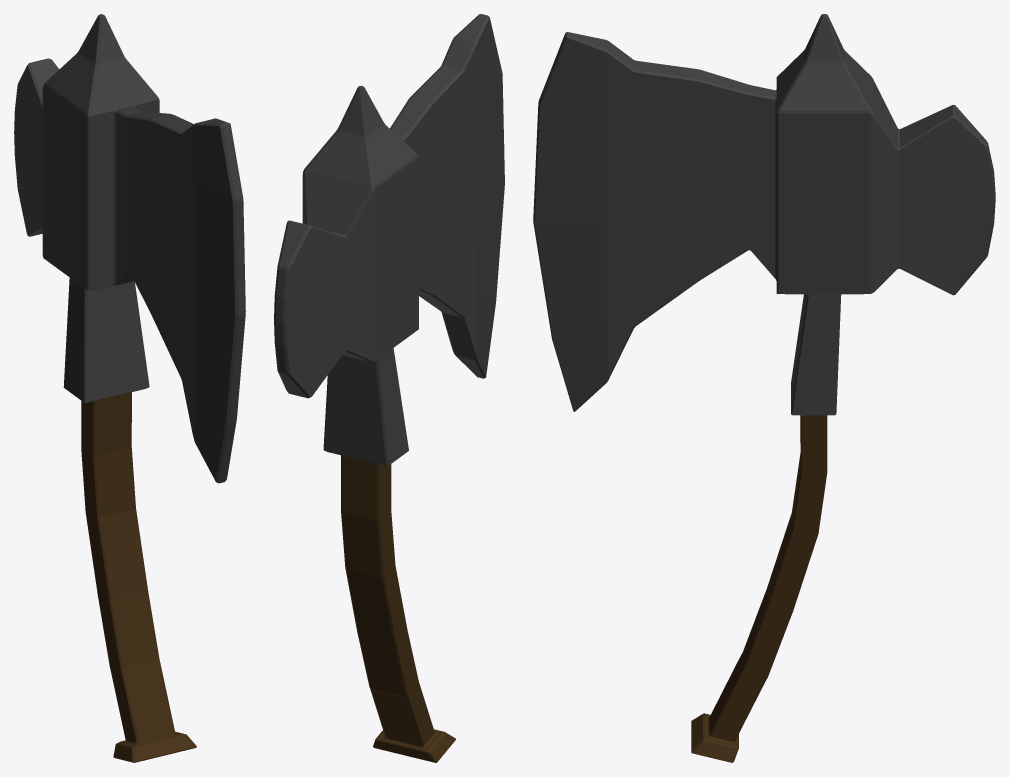
File: axe_bigger.fbx
3 renders of one model, left to right at view 1: azimuth 30°, elevation 25°; view 2: azimuth 150°, elevation 25°; view 3: azimuth 270°, elevation 25°, orthographic. The views are drawn at different scales.
Visible parts, largest first — view 1: axe; view 2: axe; view 3: axe.
Part boxes in pixels (box(x1,y1,x2,y2)): axe: box(14, 14, 245, 762); axe: box(274, 14, 504, 762); axe: box(533, 14, 995, 762).
Size of the model in its own units: 40 by 70 by 7.5.
